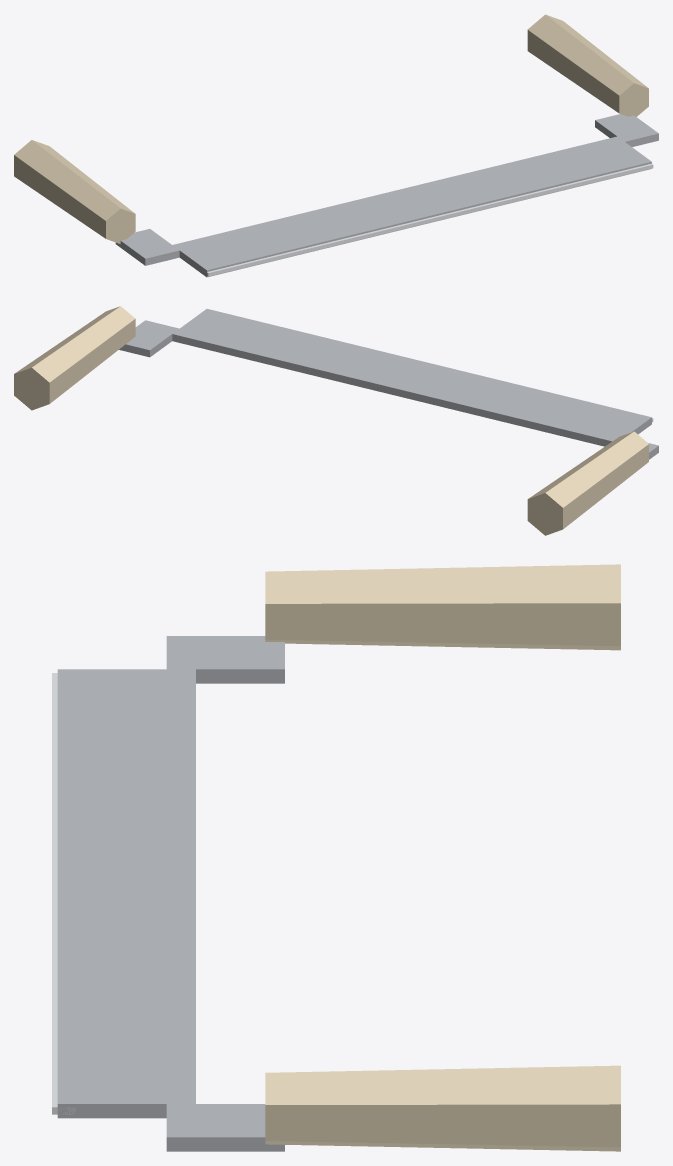
Rendered from prop-drawknife-pg1.fbx.
3 renders of one model, top to bottom at view 1: azimuth 30°, elevation 25°; view 2: azimuth 150°, elevation 25°; view 3: azimuth 270°, elevation 25°, orthographic. The views are drawn at different scales.
Visible parts, largest first — view 1: prop-drawknife-pg1; view 2: prop-drawknife-pg1; view 3: prop-drawknife-pg1.
Boxes of the visible parts, left/top/right/bottom form: prop-drawknife-pg1: left=14, top=14, right=658, bottom=277; prop-drawknife-pg1: left=14, top=306, right=658, bottom=535; prop-drawknife-pg1: left=52, top=564, right=620, bottom=1151.
Bounding box in the file's own units: 32.08 × 2.4 × 14.4.
